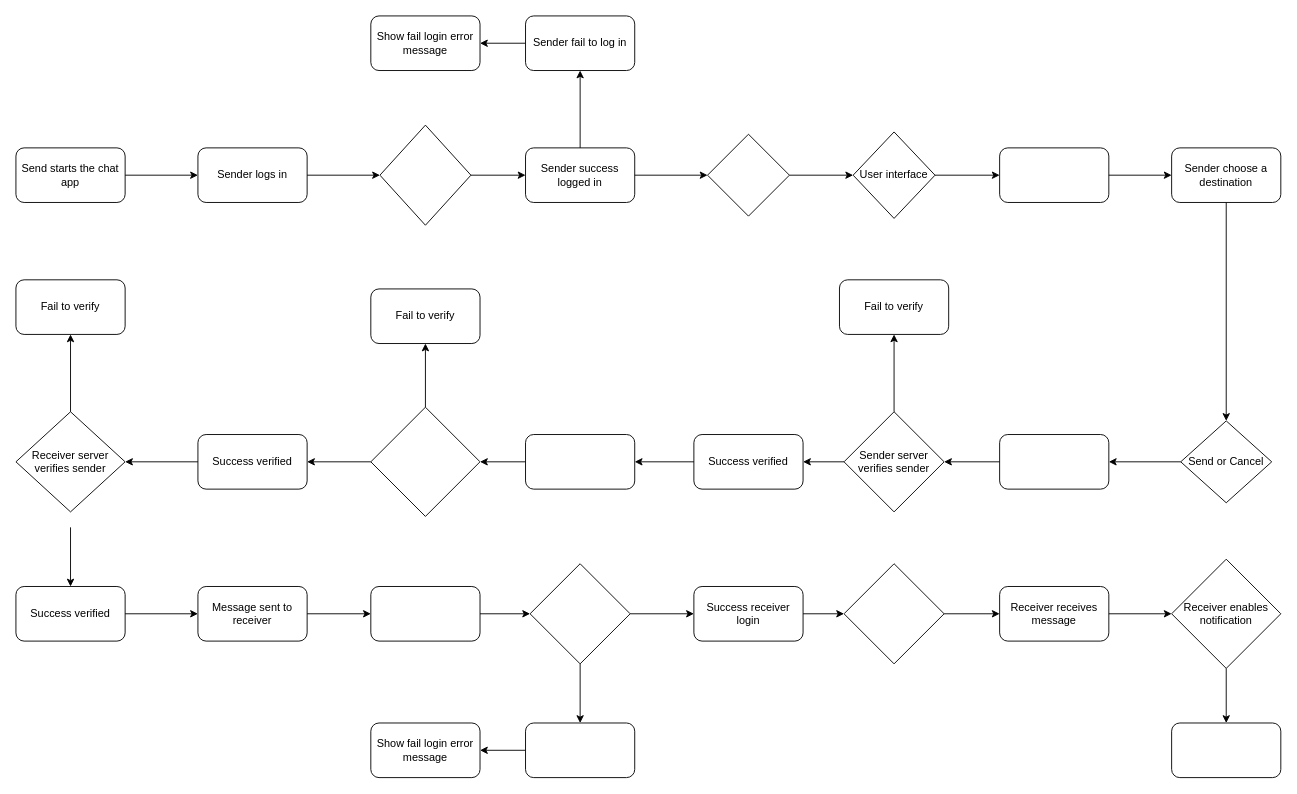
Image size: 1297x794. Some labels were removed from this diagram. The shapes that lost their labels are listed below. From the top down, each one's box as (x1, y1, x2, y2) in pixels, then its label:
(379, 124, 471, 225): Authenticate sender
(707, 133, 789, 216): Authorize sender
(999, 147, 1109, 202): Chat interface
(370, 406, 480, 516): Receiver server verifies sender server
(525, 434, 635, 489): Sender Server sends message
(999, 434, 1109, 489): Sender sends message
(370, 586, 480, 641): Receiver log in
(529, 563, 630, 664): Authenticate receiver
(843, 563, 944, 664): Authorize receiver
(525, 722, 635, 778): Fail to log in
(1171, 722, 1281, 778): Receiver views message
